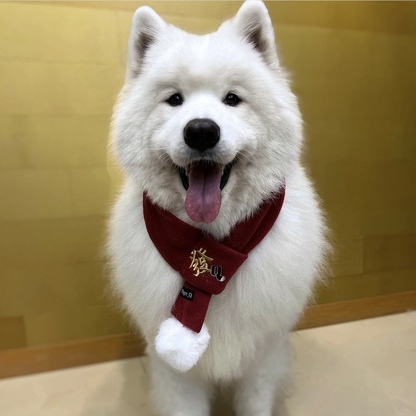samoyed: (94, 1, 339, 416)
